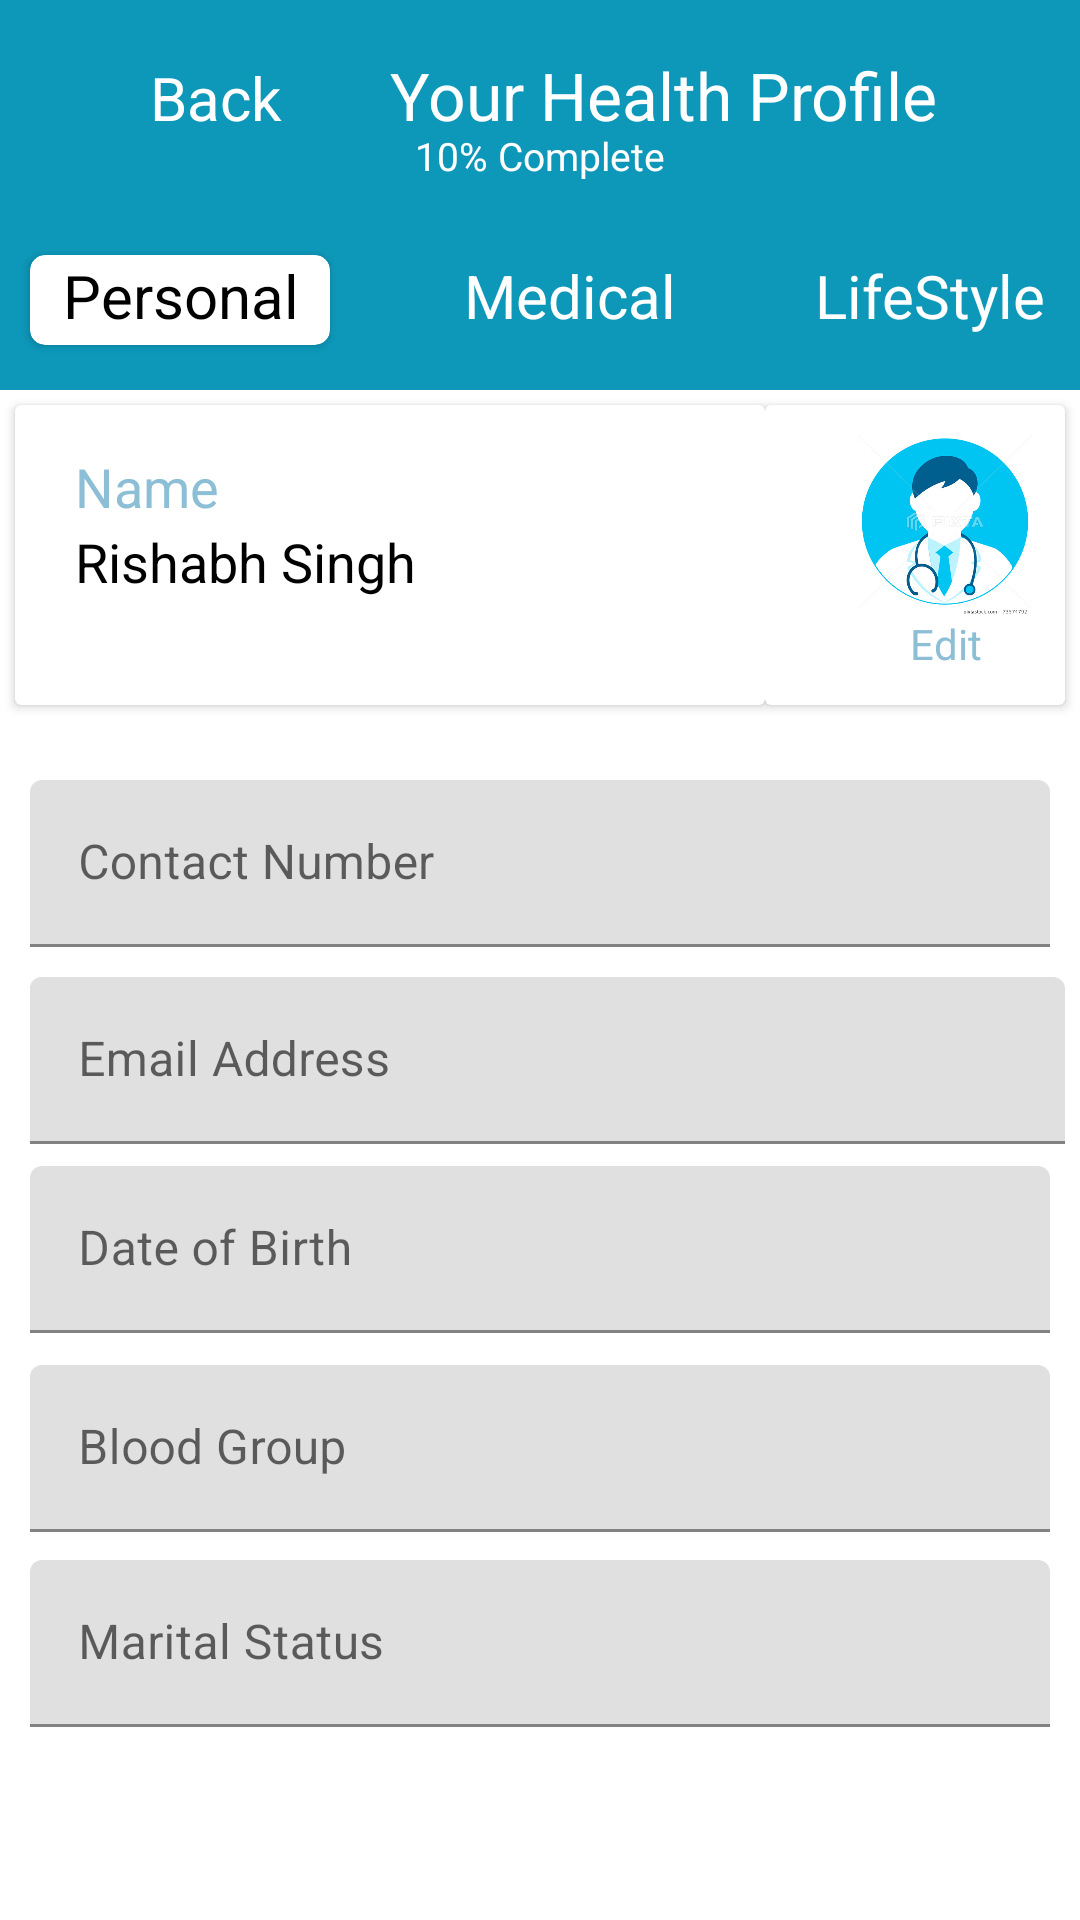

Locate icon controls on the screen. Image size 1080*1920, boxes as {"left": x1, "top": y1, "right": x2, "bottom": y2}.
doc: {"left": 862, "top": 438, "right": 1028, "bottom": 614}
